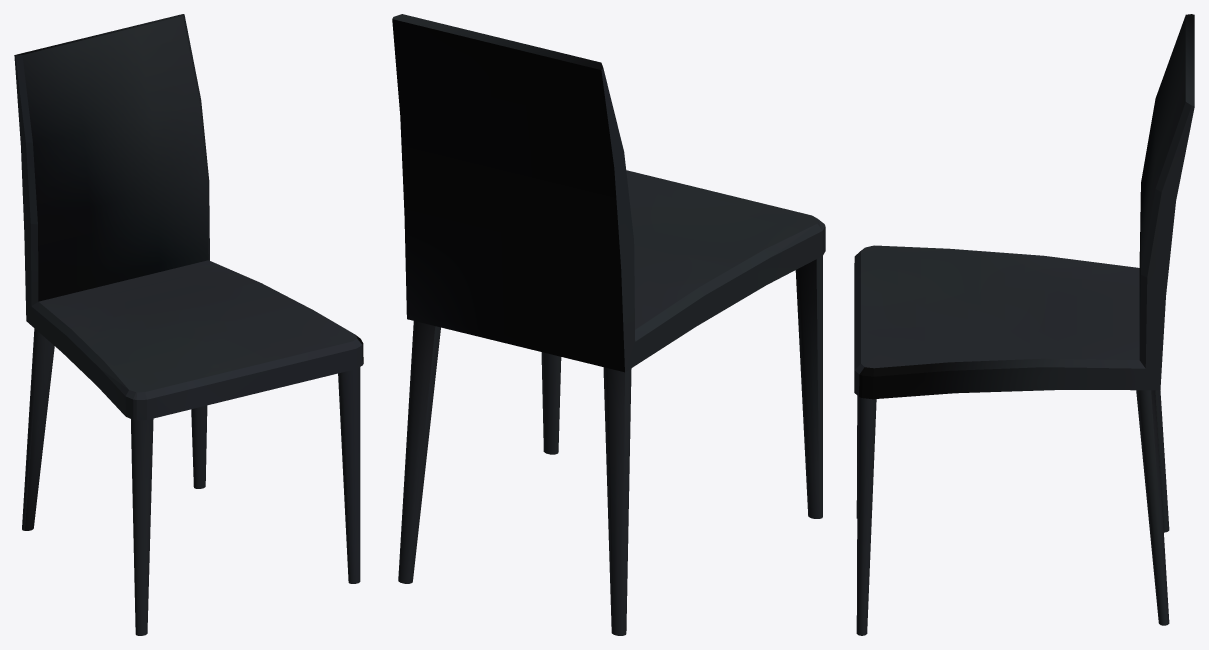
The model's file is Chair.FBX.
3 views of the same model, side by side, from view 1: azimuth 30°, elevation 25°; view 2: azimuth 150°, elevation 25°; view 3: azimuth 270°, elevation 25° (orthographic). The views are drawn at different scales.
Parts seen in each view (by area): view 1: Chair; view 2: Chair; view 3: Chair.
Part boxes in pixels (<box>): Chair: <box>14,14,363,635</box>; Chair: <box>392,14,825,635</box>; Chair: <box>854,14,1194,635</box>.
Bounding box in the file's own units: 43.26 × 48.8 × 81.75.
